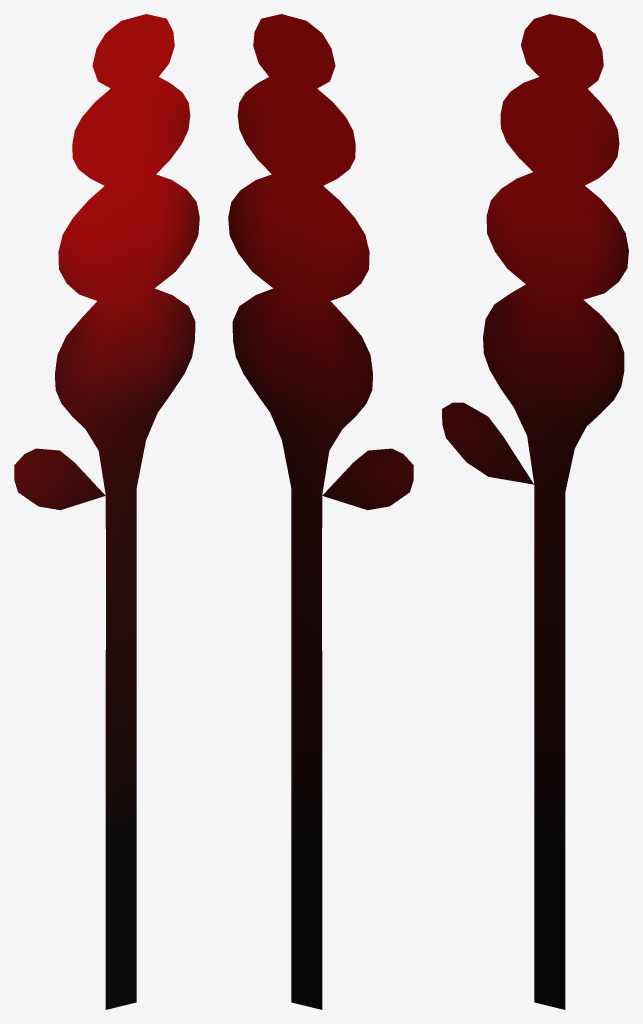
File: SM_Lavender_05_LOD0.fbx
3 views of the same model, side by side, from view 1: azimuth 30°, elevation 25°; view 2: azimuth 150°, elevation 25°; view 3: azimuth 330°, elevation 25° (orthographic).
Visible parts, largest first — view 1: SM_Lavender_05_LOD0; view 2: SM_Lavender_05_LOD0; view 3: SM_Lavender_05_LOD0.
Part boxes in pixels (bbox=[...]): SM_Lavender_05_LOD0: bbox=[14, 14, 199, 1009]; SM_Lavender_05_LOD0: bbox=[228, 14, 413, 1009]; SM_Lavender_05_LOD0: bbox=[442, 14, 628, 1009].
Bounding box in the file's own units: 51.86 × 4.14e-05 × 263.
